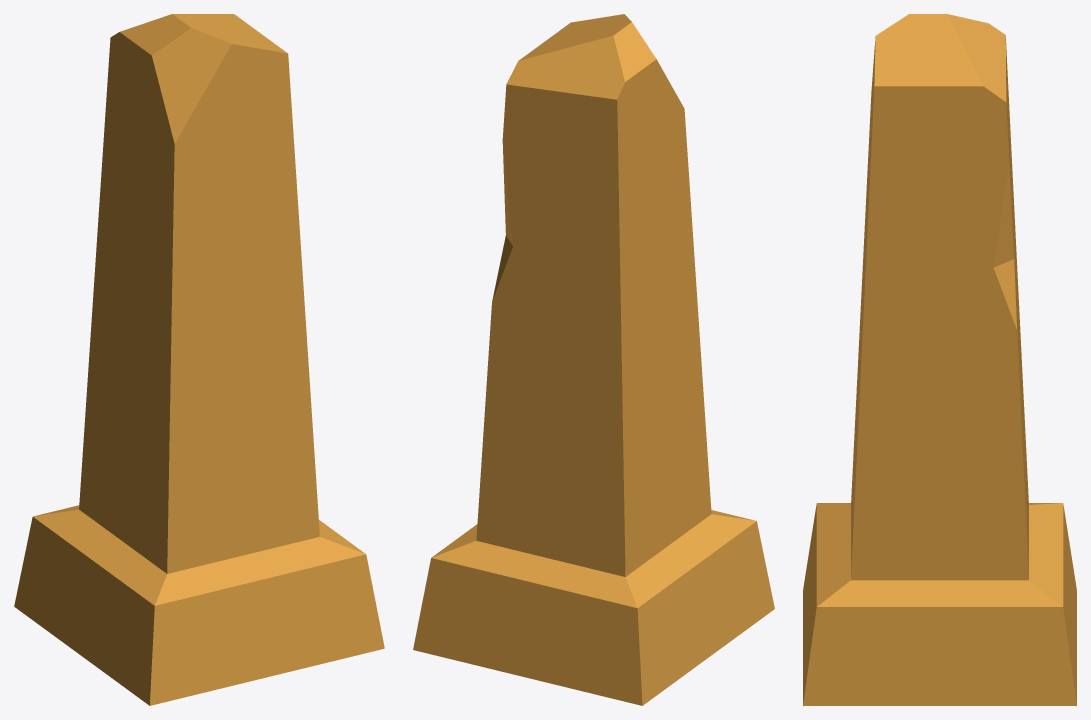
Rendered from egypt-egypt-obelisk-old-broken.glb.
3 views of the same model, side by side, from view 1: azimuth 30°, elevation 25°; view 2: azimuth 150°, elevation 25°; view 3: azimuth 270°, elevation 25° (orthographic). The views are drawn at different scales.
Visible parts, largest first — view 1: egypt-obelisk-old-broken; view 2: egypt-obelisk-old-broken; view 3: egypt-obelisk-old-broken.
Part boxes in pixels (x1=…): egypt-obelisk-old-broken: x1=14, y1=14, x2=384, y2=705; egypt-obelisk-old-broken: x1=413, y1=14, x2=774, y2=705; egypt-obelisk-old-broken: x1=803, y1=14, x2=1076, y2=705.
Size of the model in its own units: 4 by 10.03 by 4.
